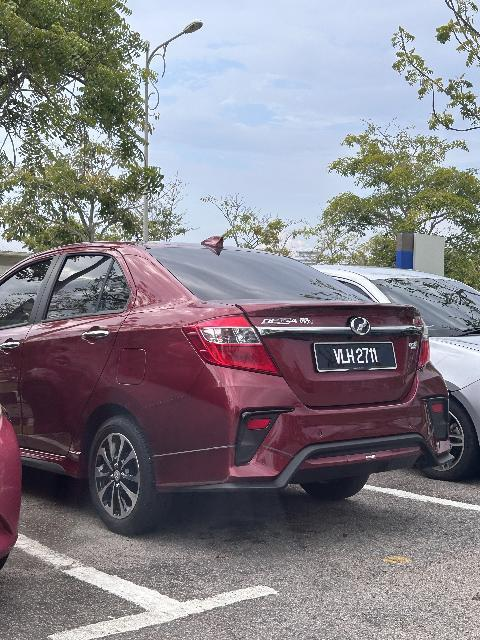License_Plate: (310, 339, 401, 377)
VLH2711: (310, 339, 401, 377)
car: (2, 225, 463, 545), (260, 257, 480, 504)
